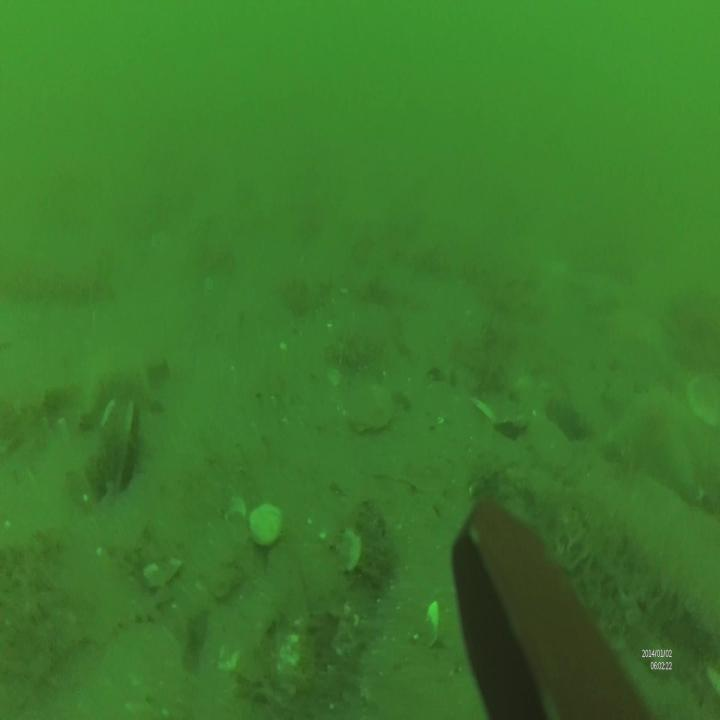scallop: (250, 504, 282, 548)
